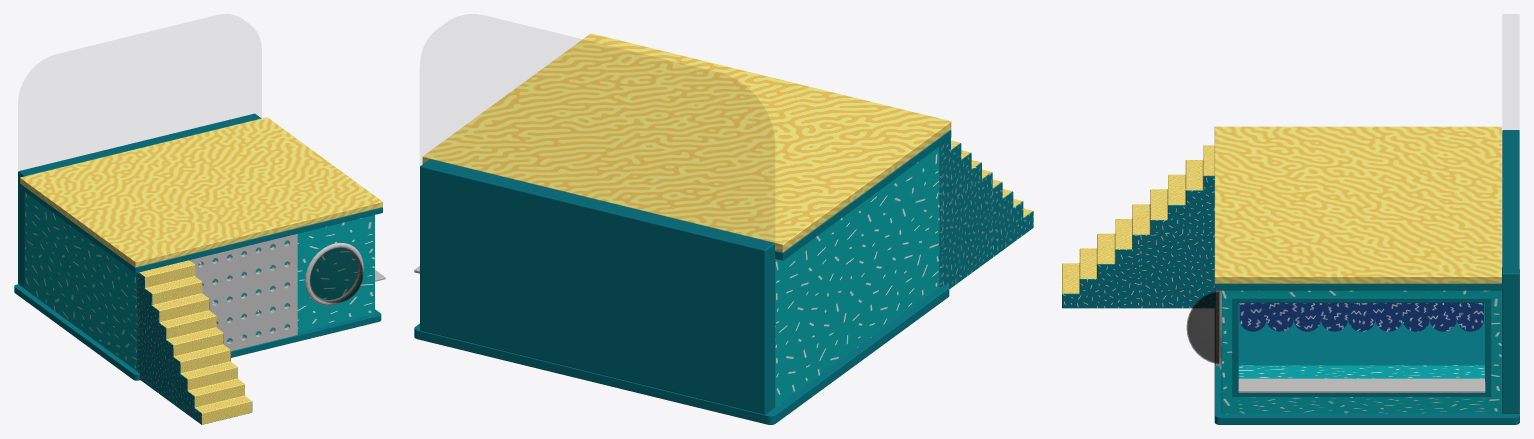
Rendered from Duplex_Small.FBX.
3 views of the same model, side by side, from view 1: azimuth 30°, elevation 25°; view 2: azimuth 150°, elevation 25°; view 3: azimuth 270°, elevation 25° (orthographic). The views are drawn at different scales.
Visible parts, largest first — view 1: Duplex_Small; view 2: Duplex_Small; view 3: Duplex_Small.
Boxes of the visible parts, x1,y1,x2,y2 form: Duplex_Small: (14,113,385,424); Duplex_Small: (414,33,1033,424); Duplex_Small: (1062,126,1519,424).
Size of the model in its own units: 342 by 285 by 419.
